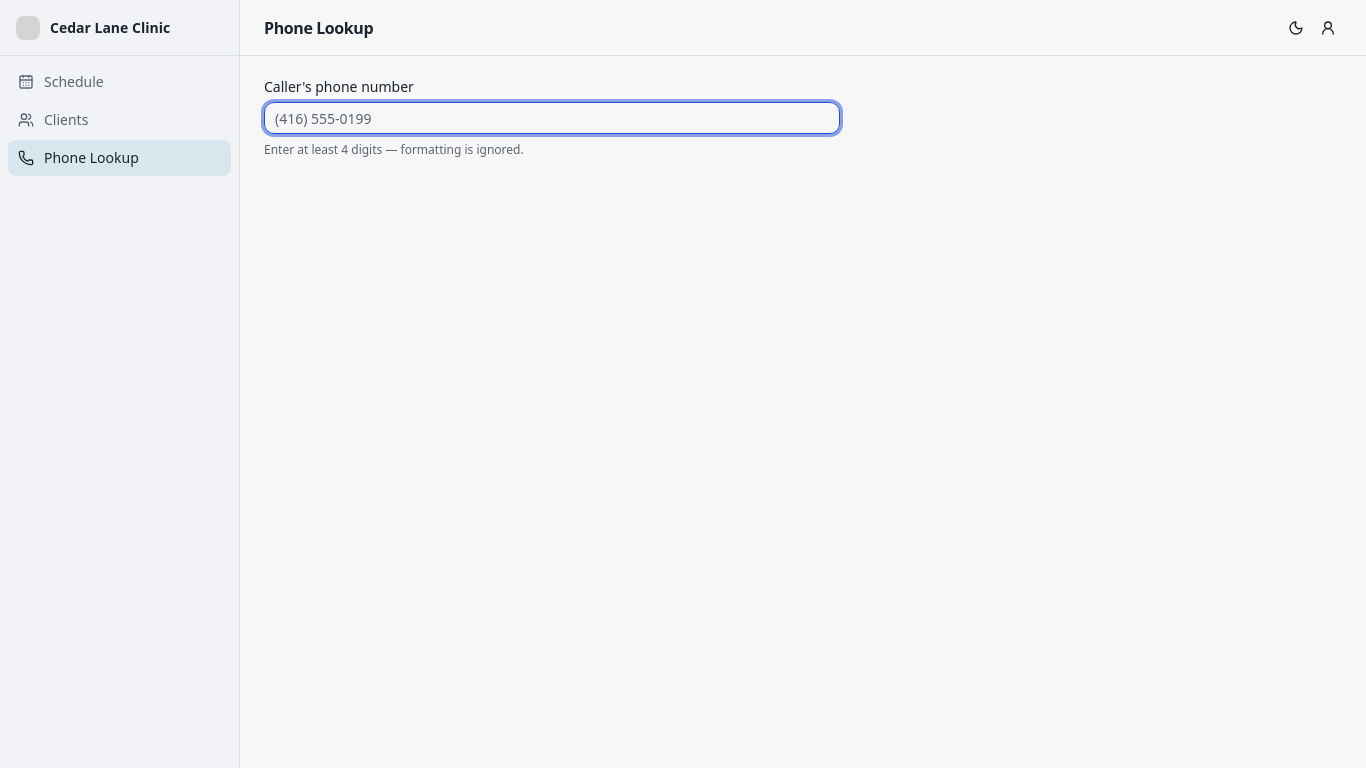
fewer than four digits asks for more and makes no request
Type "416" into the field labelled "Caller's phone number".
click(552, 118); type("416")  # box [264,102,840,134]
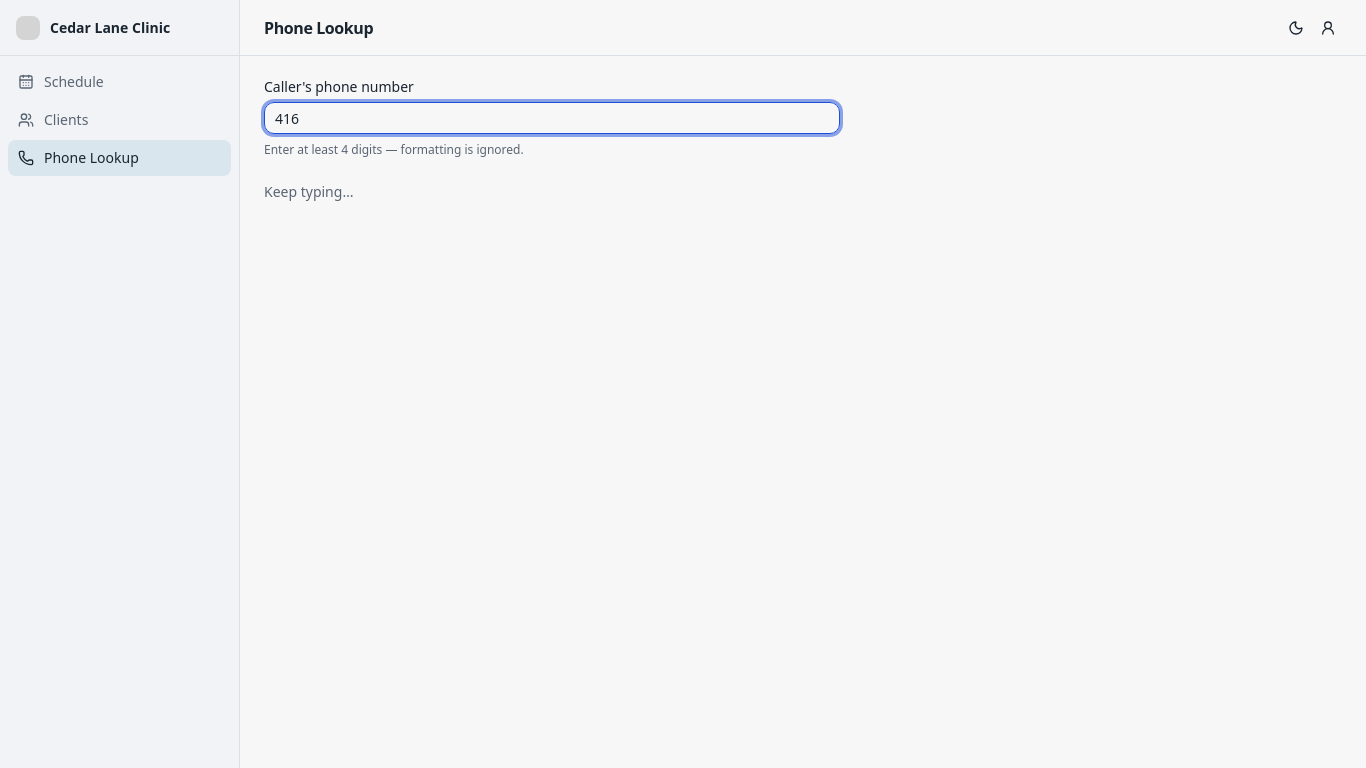
Check: the text "Keep typing…" is shown, box [264,182,354,201]
